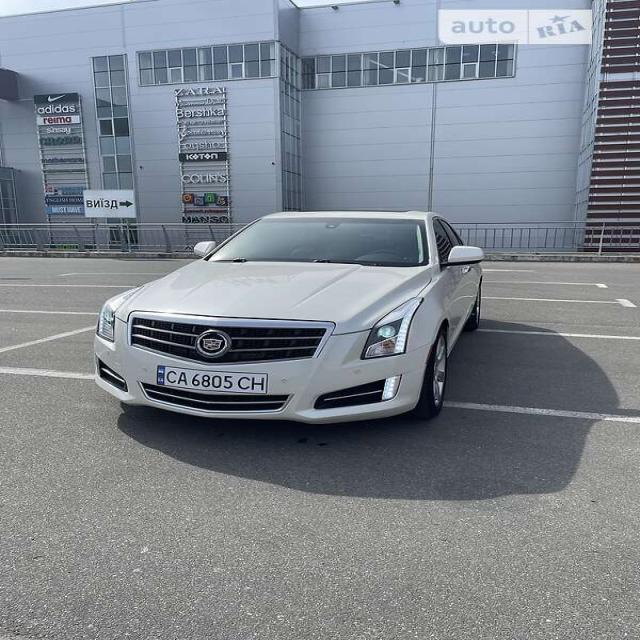plate: (157, 358, 276, 403)
